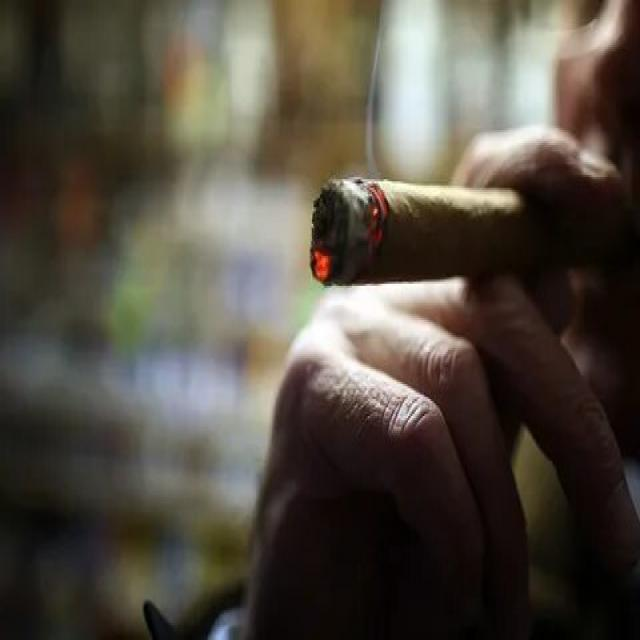cigarette: (308, 168, 624, 298)
